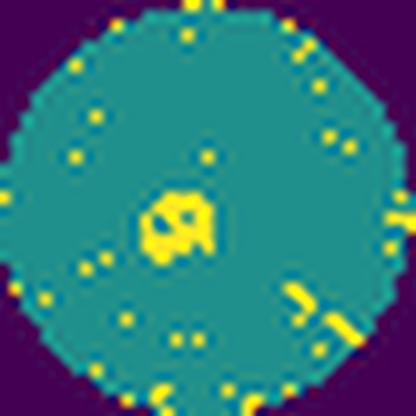Center: (139, 190, 217, 268)
